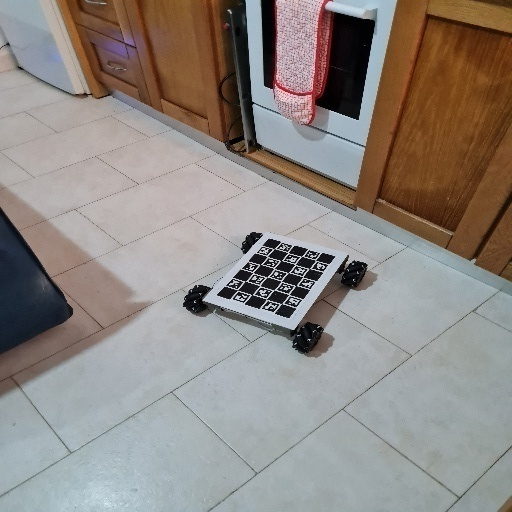Omniwheel: (183, 230, 370, 354)
